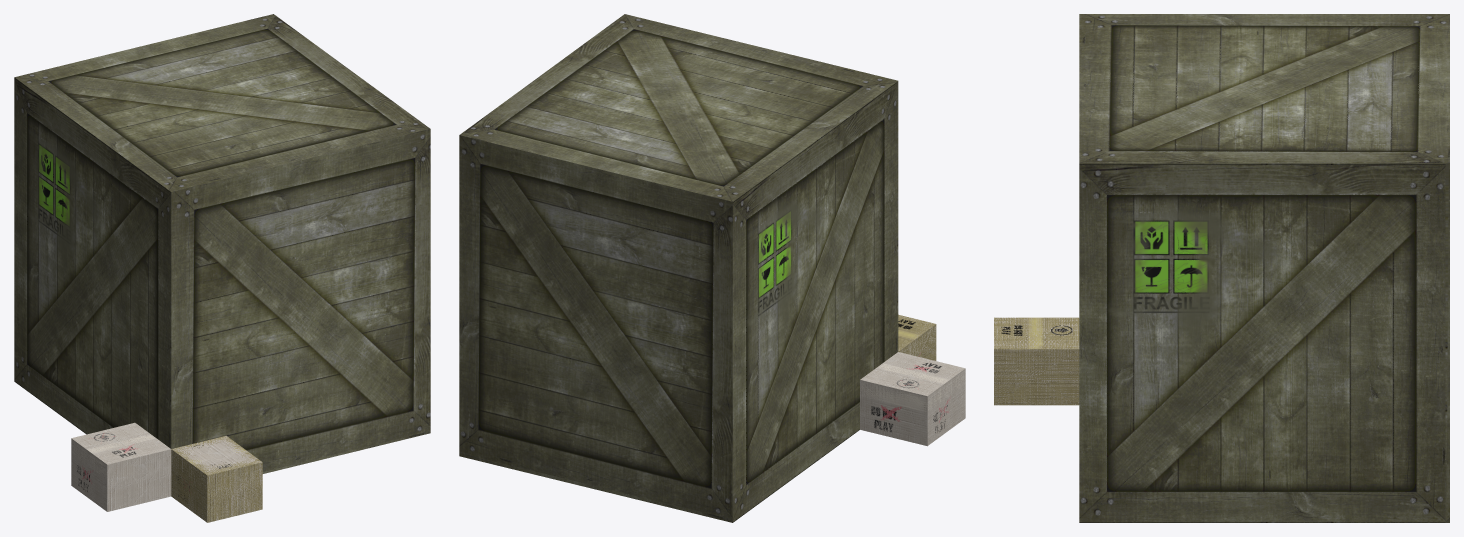
File: Boxes.fbx
3 views of the same model, side by side, from view 1: azimuth 30°, elevation 25°; view 2: azimuth 150°, elevation 25°; view 3: azimuth 270°, elevation 25° (orthographic). The views are drawn at different scales.
Visible parts, largest first — view 1: Big_Box, CardBoard_2, Cardboard_1; view 2: Big_Box, CardBoard_2, Cardboard_1; view 3: Big_Box, Cardboard_1.
Part boxes in pixels (x1=…): Big_Box: x1=14, y1=14, x2=430, y2=473; CardBoard_2: x1=71, y1=422, x2=171, y2=511; Cardboard_1: x1=171, y1=435, x2=262, y2=522; Big_Box: x1=459, y1=14, x2=898, y2=522; CardBoard_2: x1=860, y1=352, x2=965, y2=446; Cardboard_1: x1=898, y1=314, x2=936, y2=360; Big_Box: x1=1079, y1=14, x2=1449, y2=522; Cardboard_1: x1=994, y1=317, x2=1079, y2=405.
Bounding box in the file's own units: 26.76 × 24.09 × 27.69.
